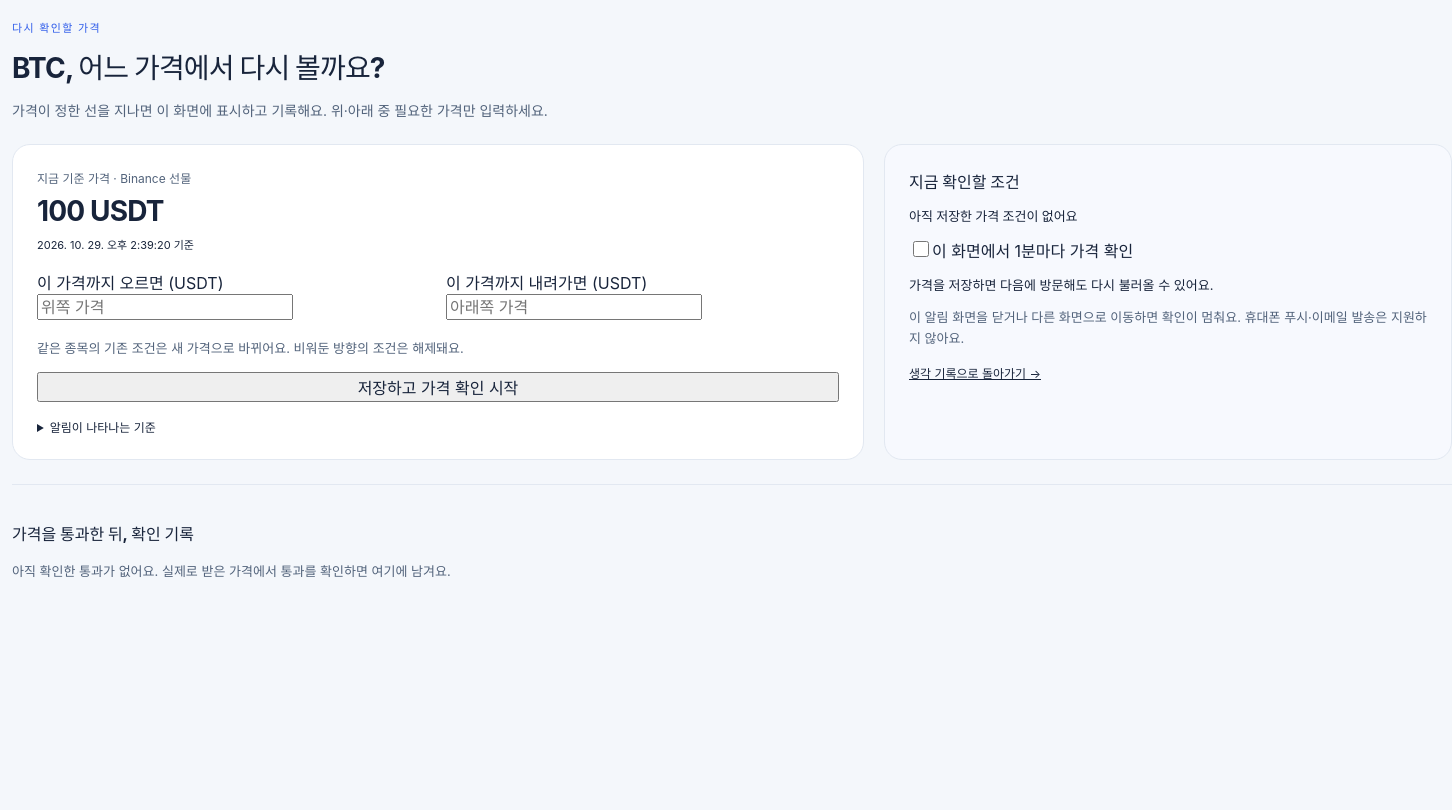
Test: browser price alert journey › preserves inputs and leaves checking off when storage fails
Type "110" into the number field labelled "이 가격까지 오르면 (USDT)" at (165, 307), box [37,294,293,320]
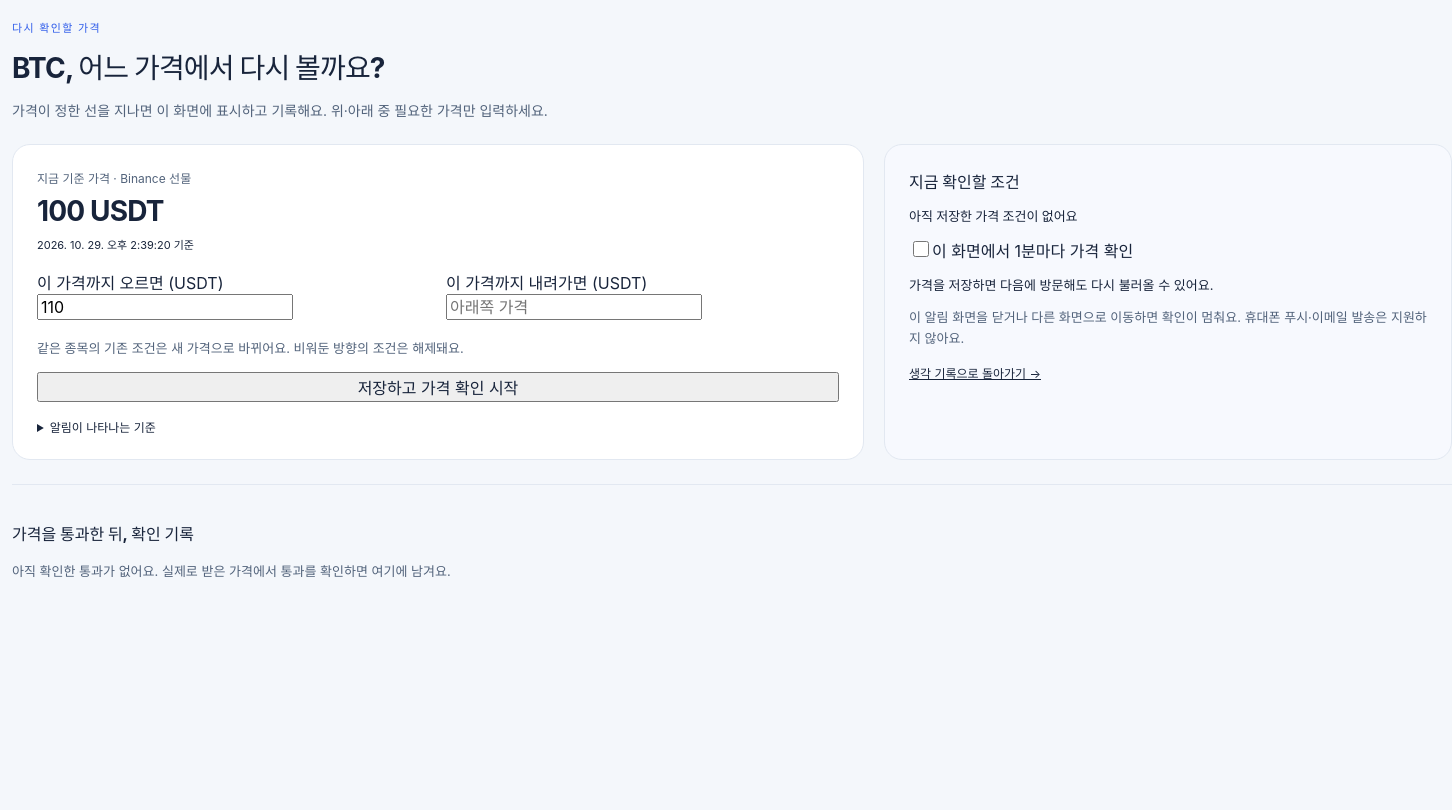
Click the button "저장하고 가격 확인 시작" at (438, 387), box [37,372,839,402]
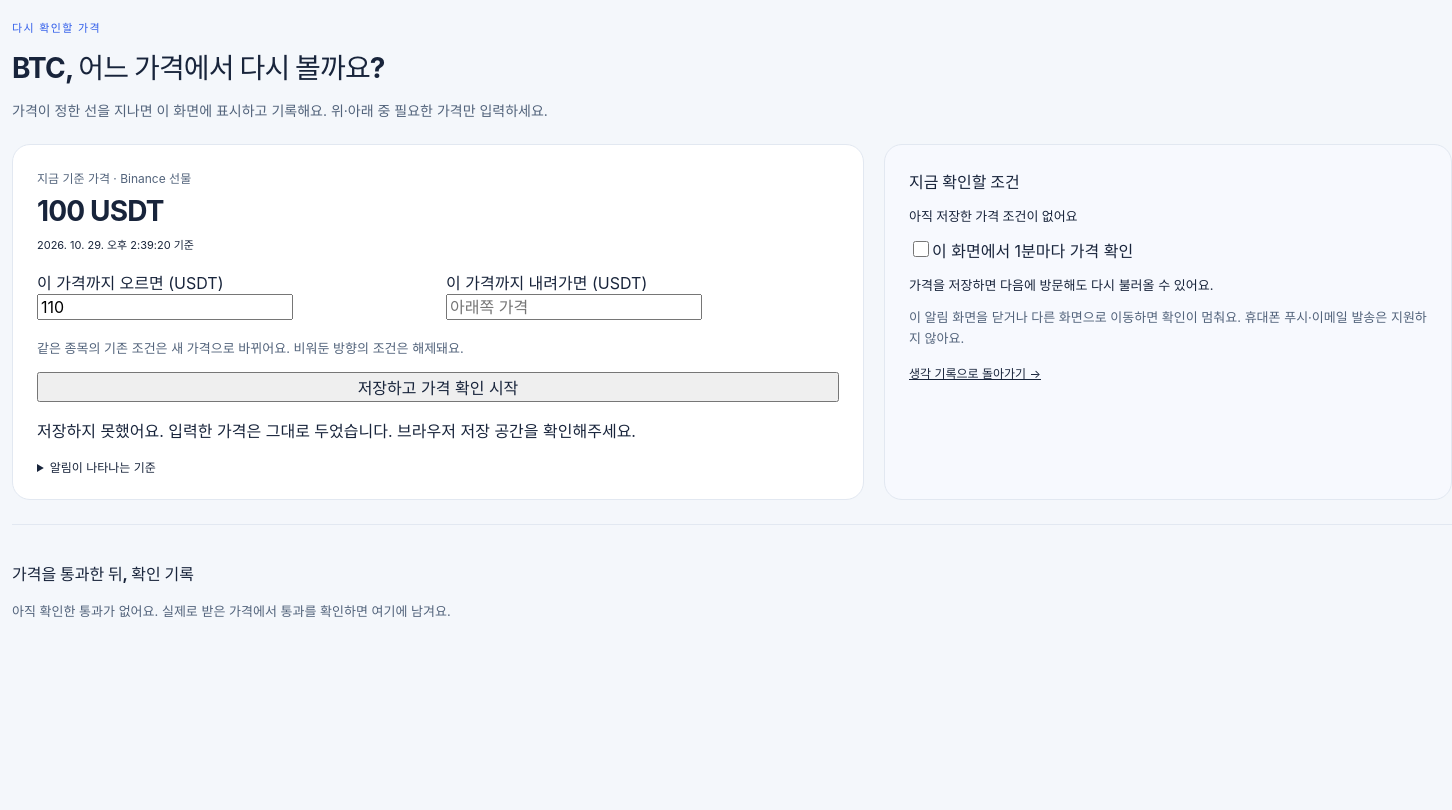
Expected: the message shows "저장하지 못했어요", [37,421,636,441]
